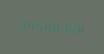five: (33, 18, 40, 33)
four: (25, 18, 32, 32)
three: (17, 17, 24, 32), (65, 20, 72, 35), (57, 20, 64, 34)
zero: (49, 19, 56, 34), (41, 19, 48, 33), (73, 21, 80, 35)
